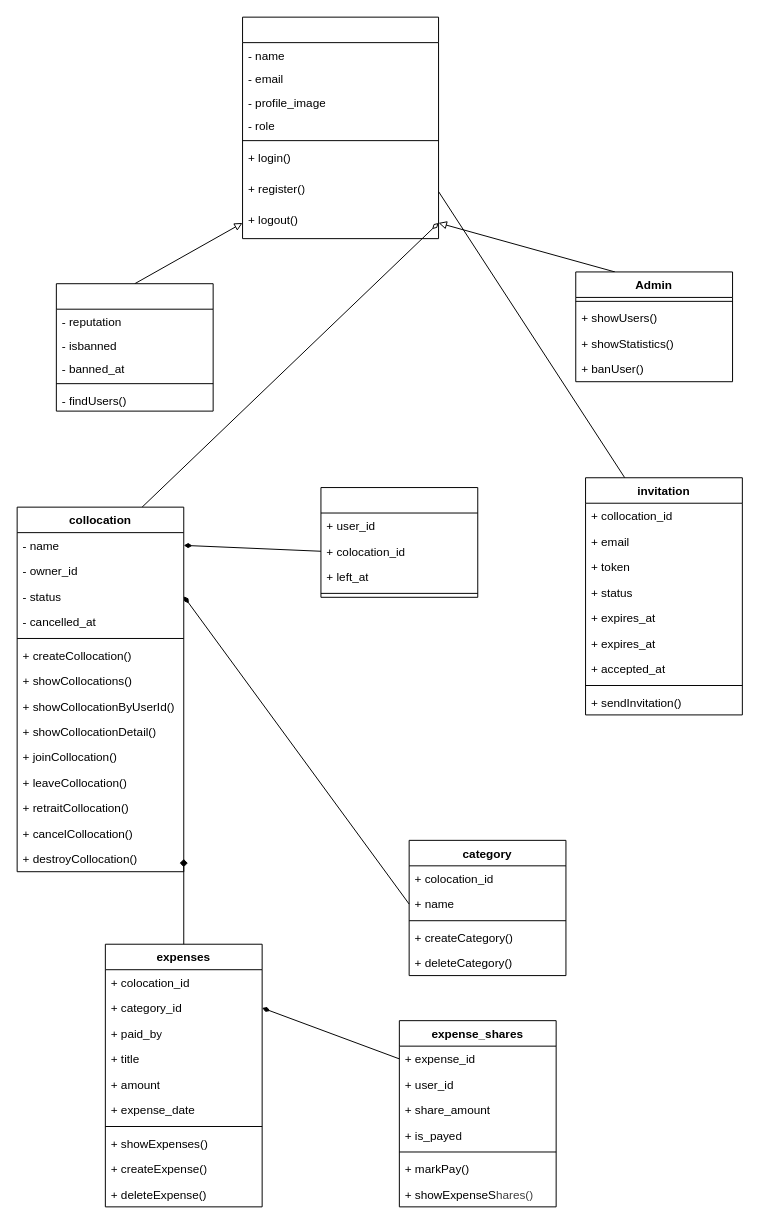
This 760x1227 diagram has some shape labels left out. Here are the shapes that lost their labels. From the top down, the box of each, then its label:
(242, 16, 439, 239): ParentUser
(55, 283, 213, 411): NormalUser
(320, 487, 478, 597): membership
